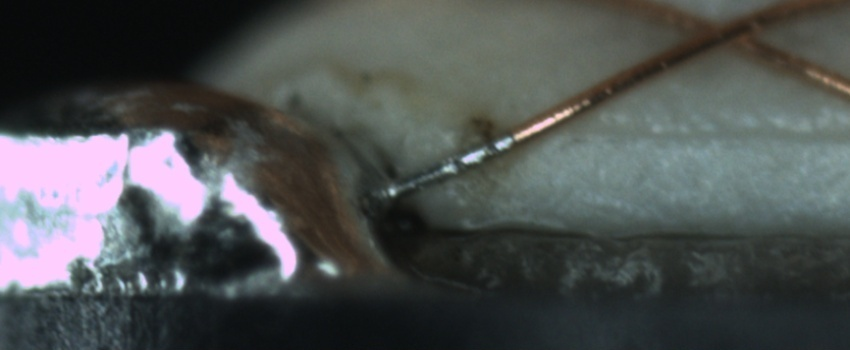CL: (689, 3, 779, 57)
DL: (550, 102, 849, 166)
TS: (385, 132, 519, 202)
